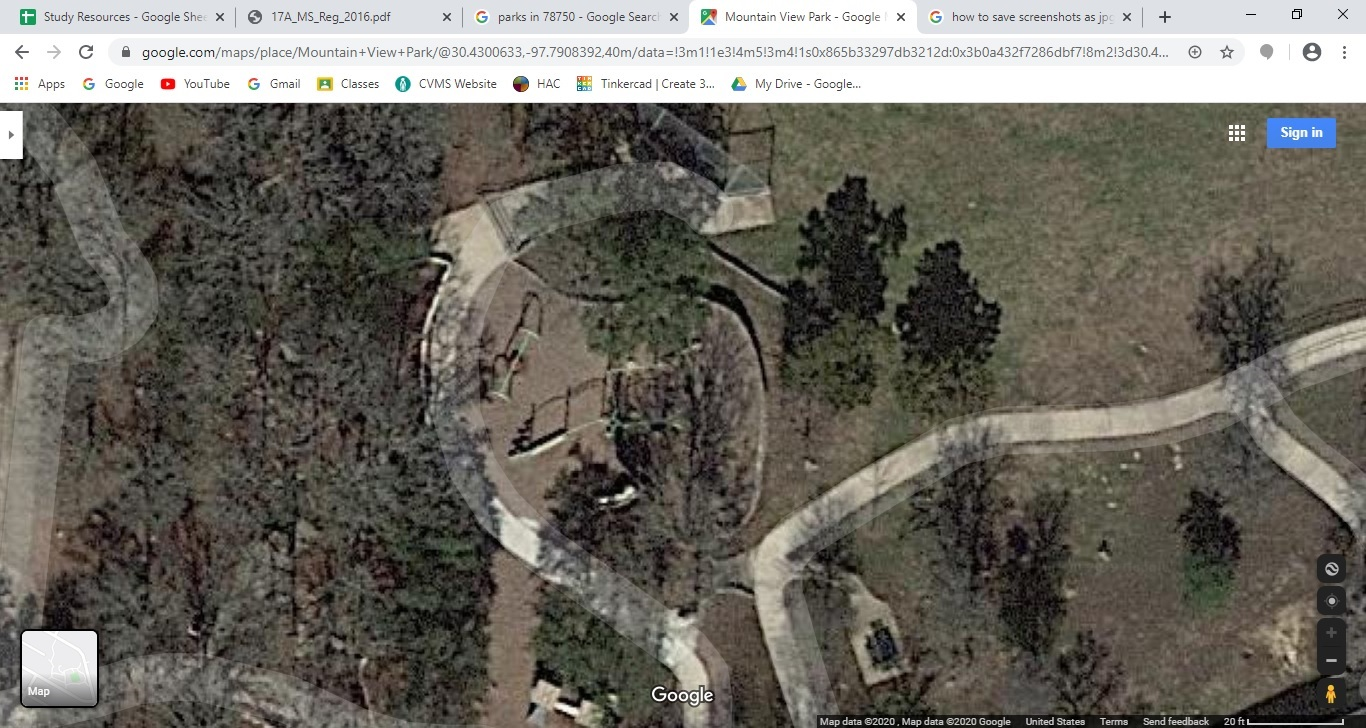playscape: (448, 274, 828, 610)
